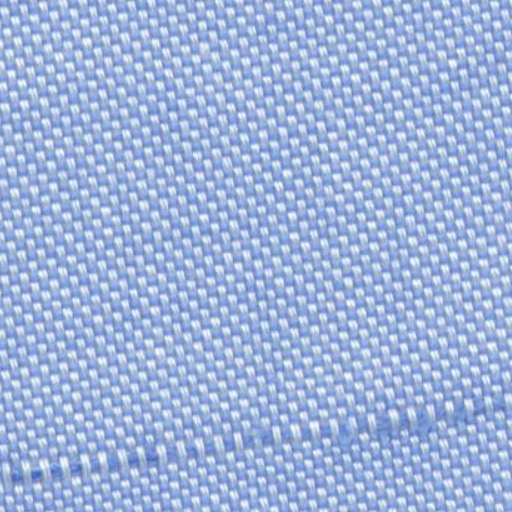DaiSha: (12, 390, 501, 482)
